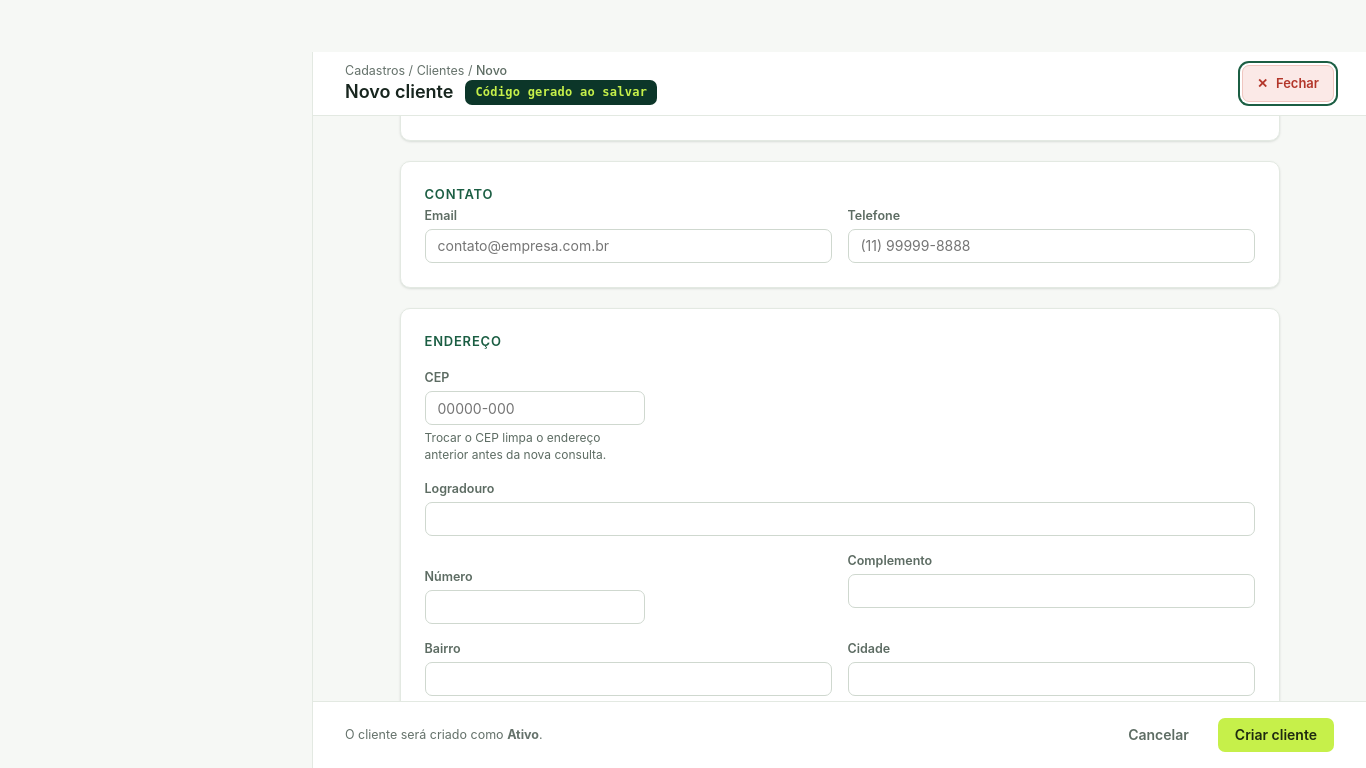
Scenario: Cliente — o endereço pertence ao CEP › CEP A resolvido preenche o endereço de A
(page scrolled)
Step 1. Type "04816100" into the field labelled "CEP" → (534,408), box [424,391,644,425]
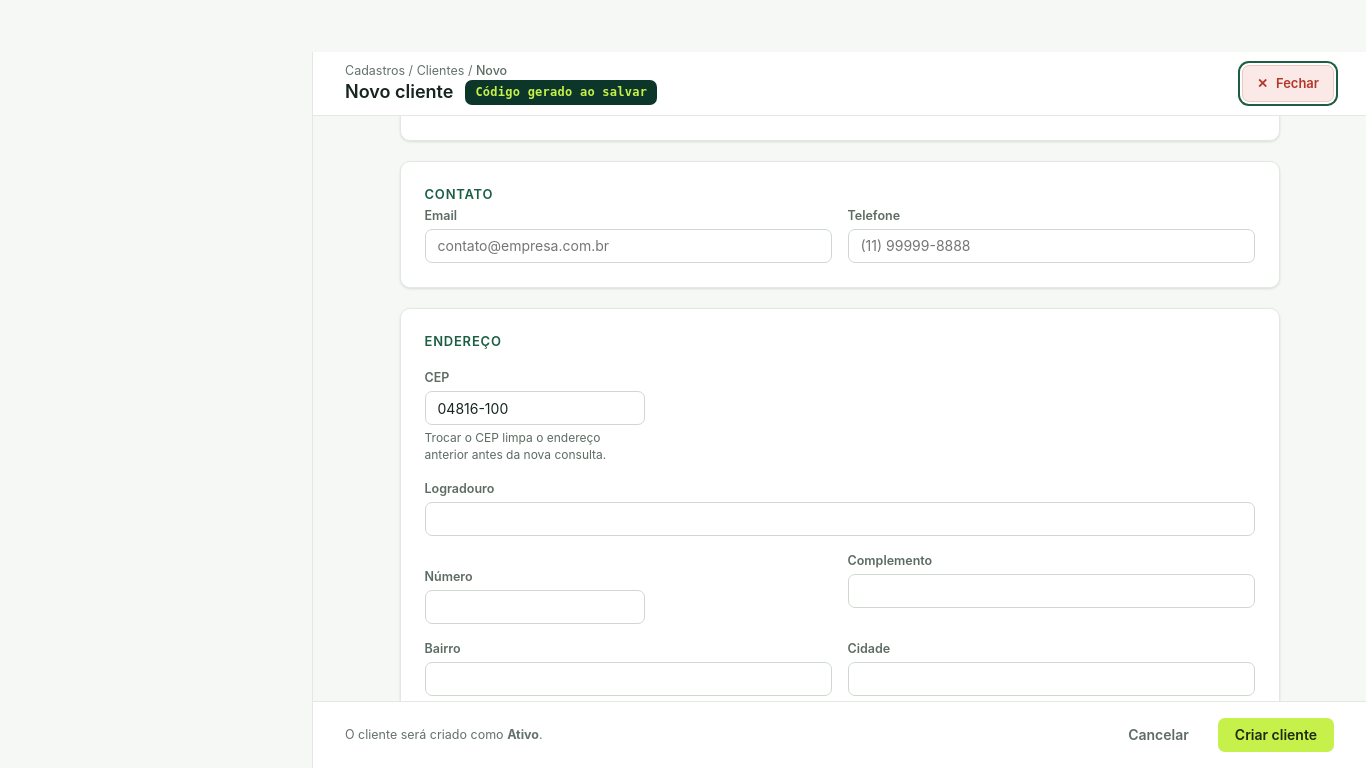
Step 2. Leave the field labelled "CEP", box [424,391,644,425]
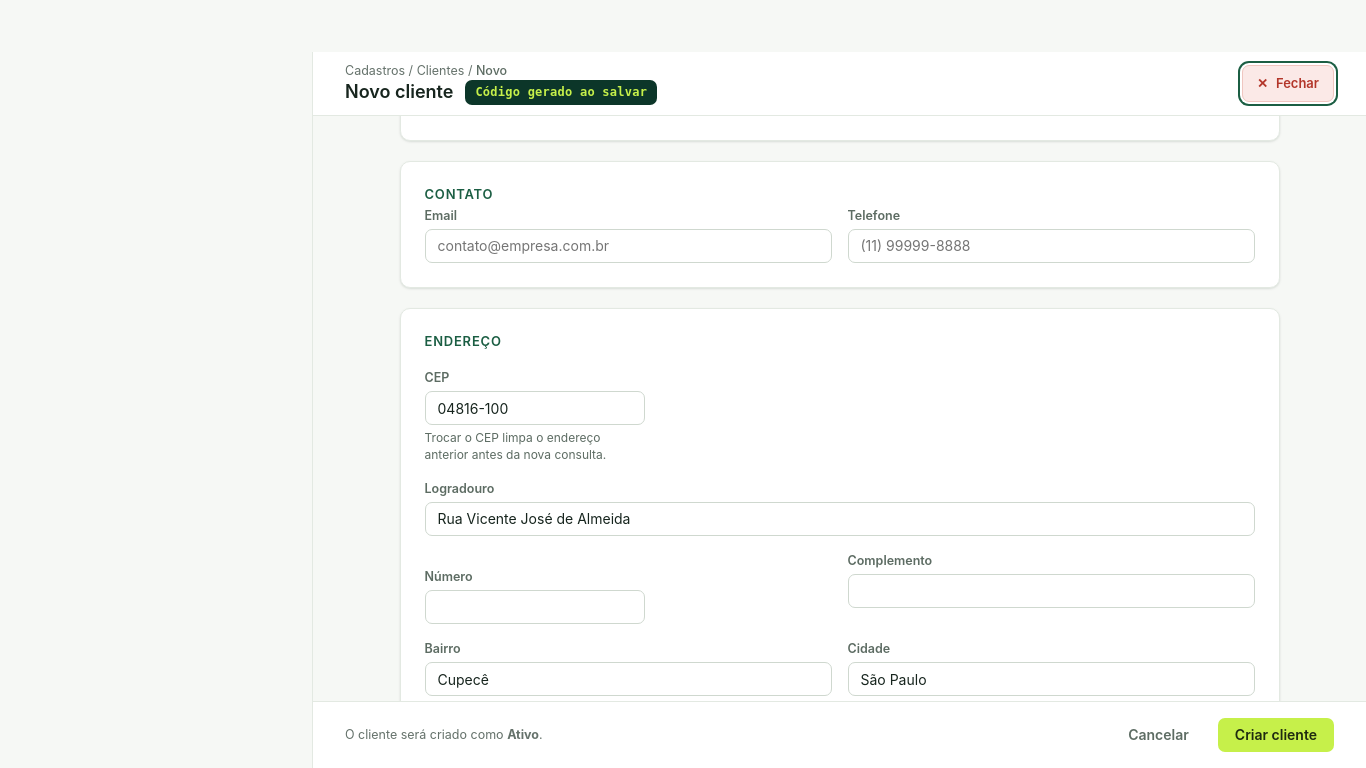
Result: the field labelled "Cidade" holds "São Paulo" at [848,662,1254,696]
